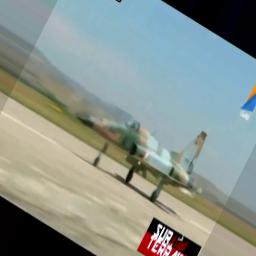Airplane: (75, 116, 208, 205)
